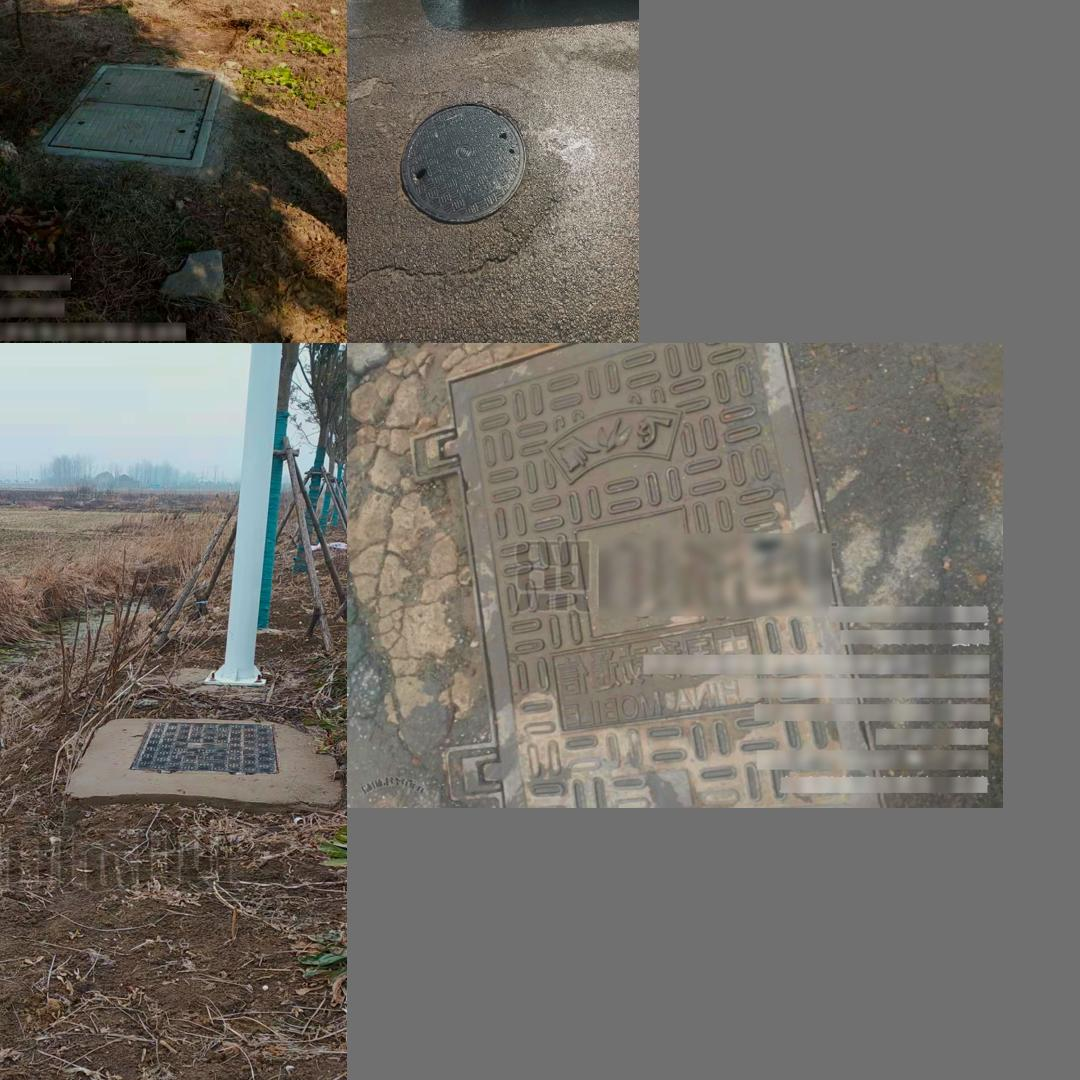good: (408, 345, 890, 808), (40, 64, 224, 167), (401, 102, 525, 223), (124, 722, 283, 776)
